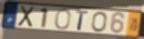1: (40, 7, 49, 29)
6: (109, 11, 127, 36)
O: (54, 8, 73, 31), (91, 11, 108, 33)
T: (75, 10, 90, 32)
X: (16, 5, 37, 29)
